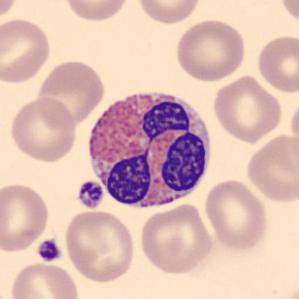Eosinophil: (80, 82, 216, 215)
Platelets: (76, 180, 105, 210), (35, 238, 62, 264)
RBC: (137, 202, 215, 276), (62, 208, 137, 284), (210, 73, 285, 144), (34, 58, 106, 128), (203, 177, 270, 252), (173, 17, 248, 83), (7, 95, 78, 164), (243, 132, 298, 204), (0, 180, 51, 254), (0, 15, 53, 85), (8, 260, 82, 299), (255, 33, 298, 95), (134, 0, 202, 26), (60, 0, 132, 23), (288, 96, 299, 166), (277, 0, 299, 26), (0, 0, 21, 25), (278, 284, 298, 299)
